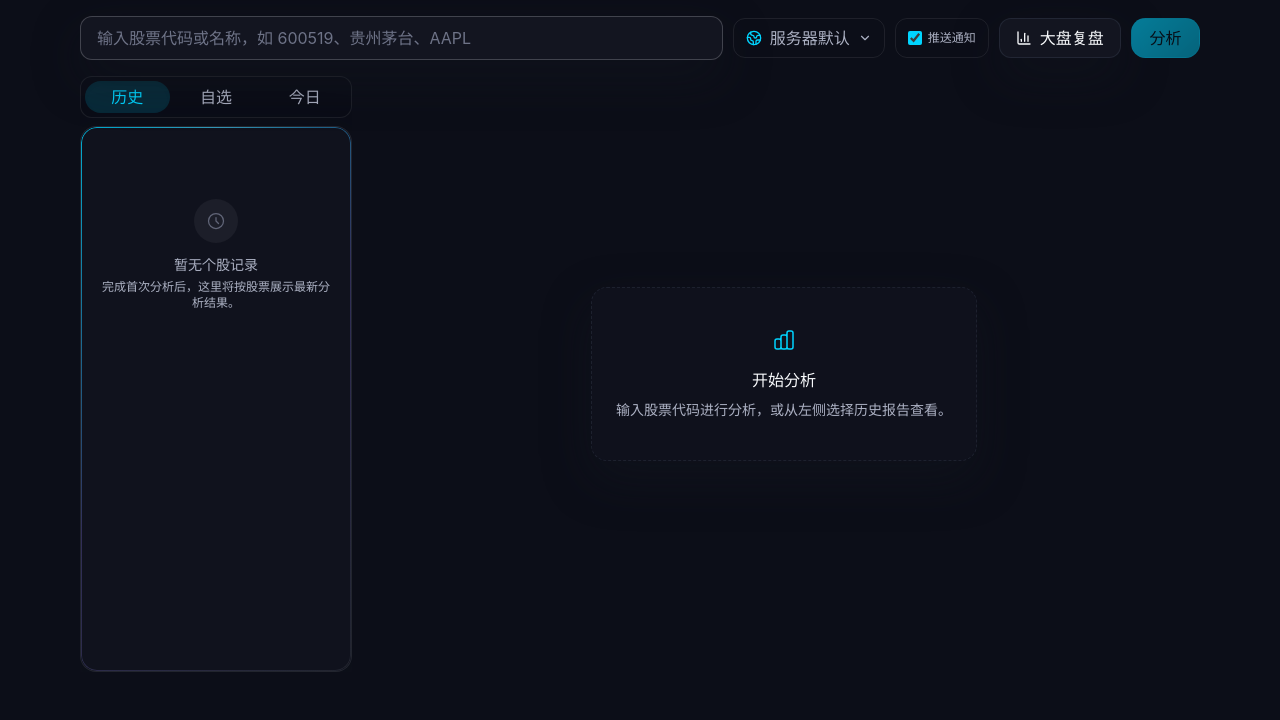
Scenario: HomePage › shows explicit feedback when a watchlist row has no report details yet
The width and height of the screenshot is (1280, 720).
Click the button "自选". click: [216, 97]
box: [174,81,258,113]
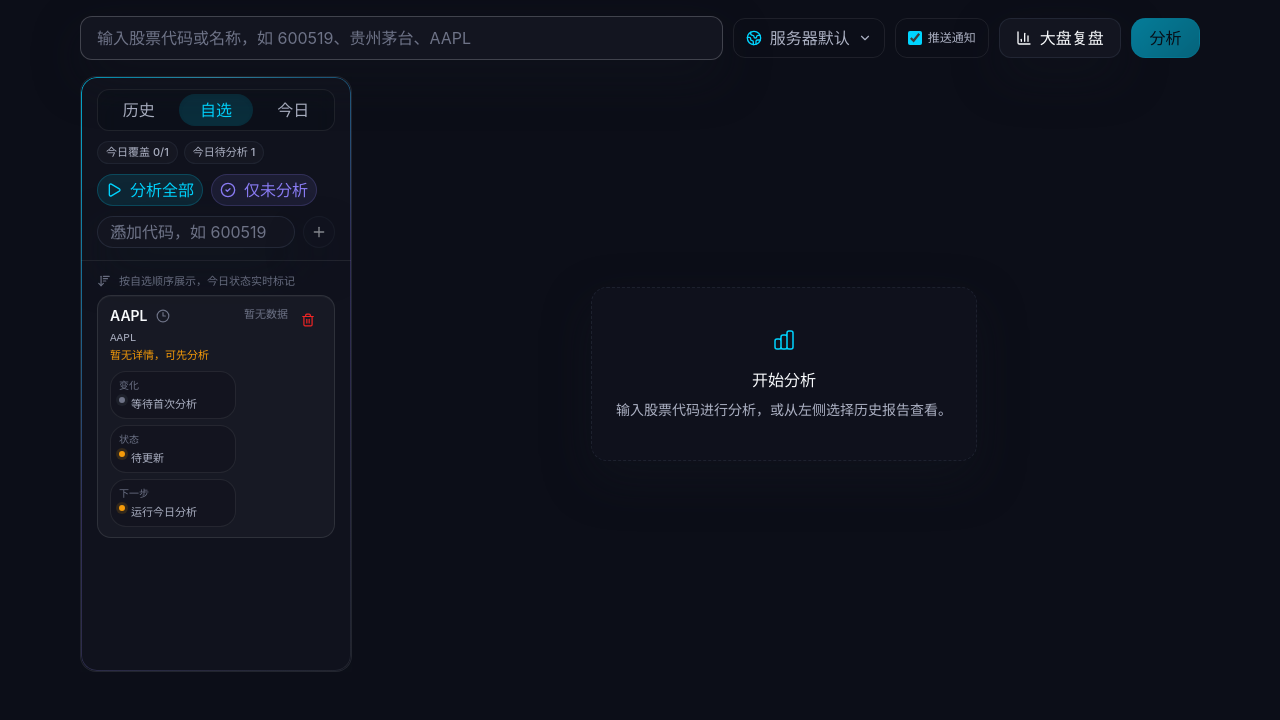
Click the button with aria-label "暂无 AAPL 的分析详情，可先分析". click: [173, 417]
box: [110,306,236,527]
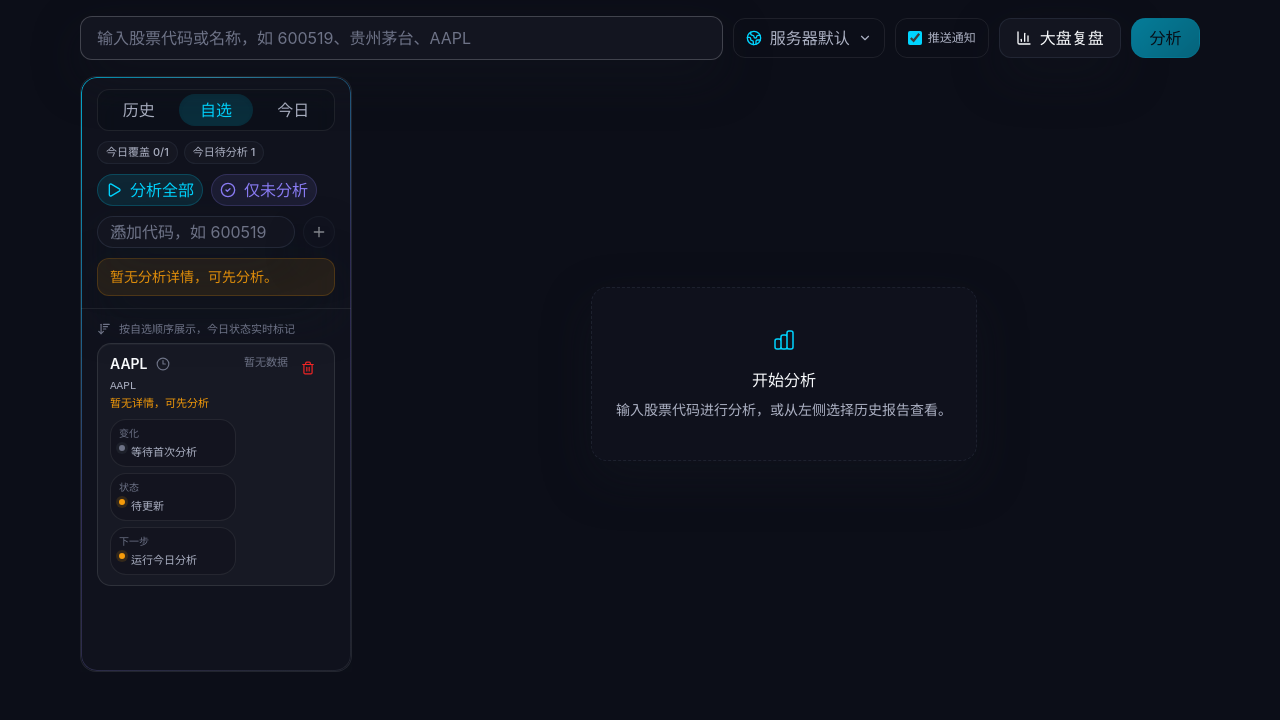
Check: the message reads "暂无分析详情，可先分析。", box [110,268,278,284]
